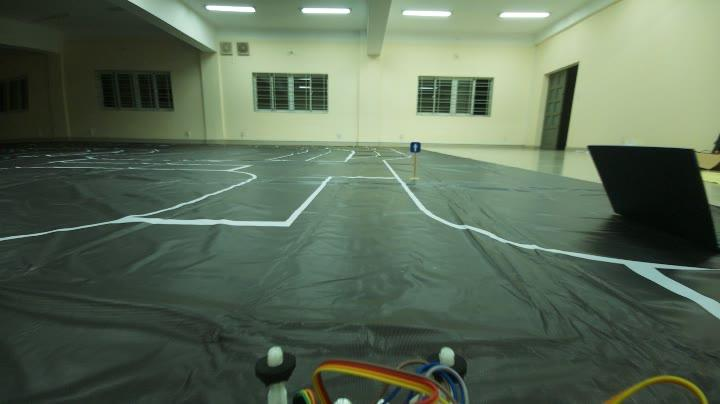onewayroad: (403, 138, 428, 156)
